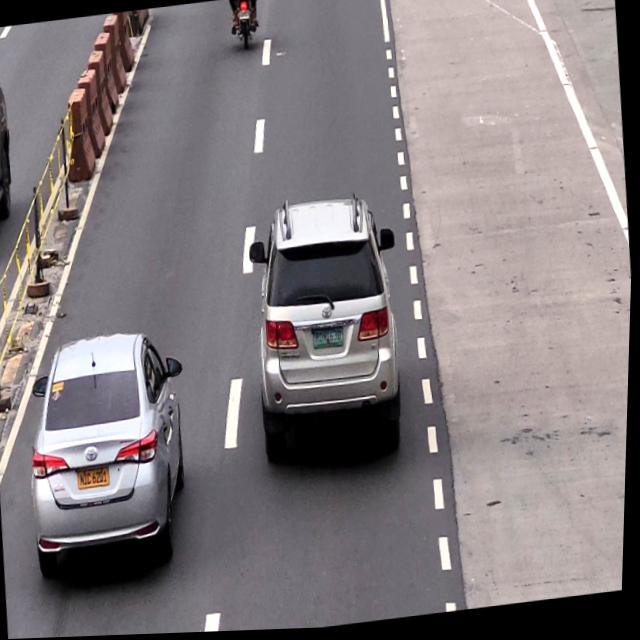Car: (21, 331, 200, 580), (247, 195, 404, 465)
License-Plate: (311, 326, 348, 354), (77, 465, 116, 490)
